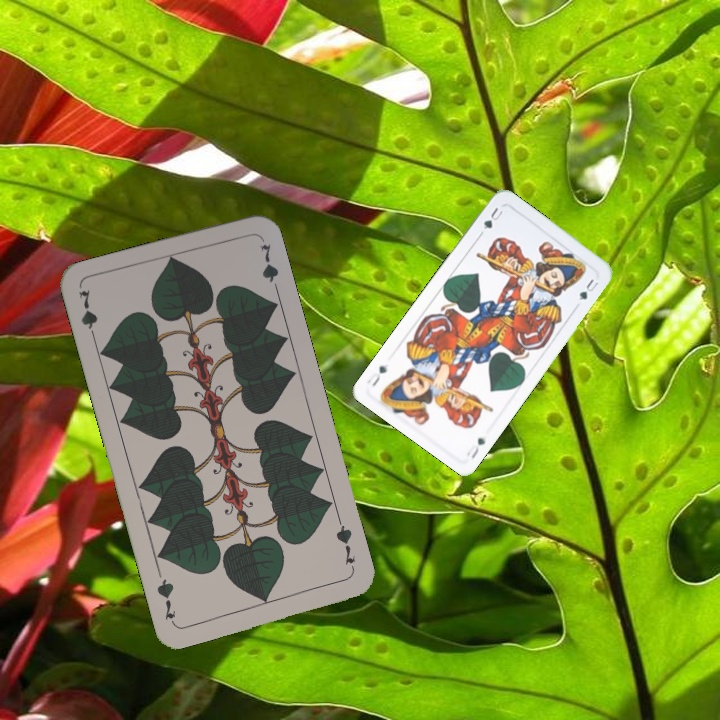G7: (74, 286, 101, 345), (331, 516, 358, 567)
GU: (476, 203, 505, 237), (462, 433, 488, 462)
